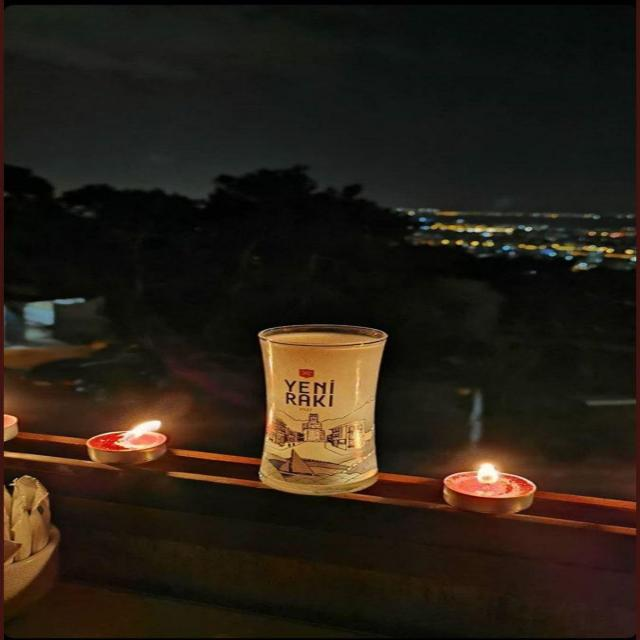glass-normal: (255, 323, 391, 494)
